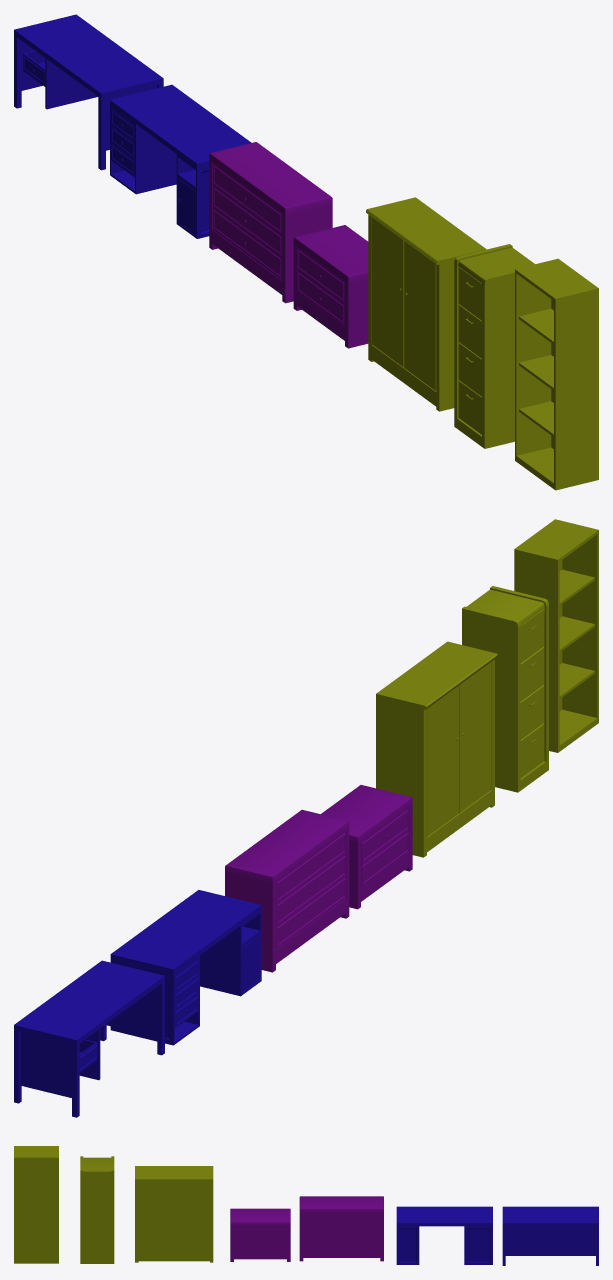
Rendered from Mobiliario.fbx.
3 renders of one model, top to bottom at view 1: azimuth 30°, elevation 25°; view 2: azimuth 150°, elevation 25°; view 3: azimuth 270°, elevation 25°, orthographic. The views are drawn at different scales.
Parts seen in each view (by area): view 1: Box008, Box007, BoxOffice, Desk01, Desk02, Box005, Box006, Drawer014, Drawer013, Drawer004, Drawer008, Drawer015; view 2: Box007, Box008, Desk02, BoxOffice, Desk01, Box005, Box006, Drawer013, Drawer014, Drawer004, Drawer008, Drawer015; view 3: Box007, Box008, Box005, Desk02, Desk01, BoxOffice, Box006.
Part boxes in pixels (left/top/right/bottom): Box008: left=515, top=258, right=598, bottom=490; Box007: left=366, top=197, right=486, bottom=411; BoxOffice: left=454, top=244, right=534, bottom=448; Desk01: left=110, top=84, right=251, bottom=238; Desk02: left=14, top=14, right=163, bottom=170; Box005: left=209, top=142, right=332, bottom=303; Box006: left=293, top=225, right=368, bottom=348; Drawer014: left=213, top=208, right=282, bottom=280; Drawer013: left=213, top=185, right=282, bottom=257; Drawer004: left=213, top=163, right=282, bottom=235; Drawer008: left=297, top=247, right=344, bottom=304; Drawer015: left=297, top=270, right=344, bottom=326; Box007: left=376, top=641, right=497, bottom=857; Box008: left=514, top=519, right=598, bottom=752; Desk02: left=14, top=960, right=164, bottom=1117; BoxOffice: left=462, top=586, right=548, bottom=792; Desk01: left=110, top=890, right=261, bottom=1045; Box005: left=225, top=809, right=349, bottom=972; Box006: left=321, top=785, right=412, bottom=909; Drawer013: left=276, top=853, right=345, bottom=926; Drawer014: left=276, top=876, right=345, bottom=949; Drawer004: left=276, top=831, right=345, bottom=904; Drawer008: left=361, top=807, right=409, bottom=864; Drawer015: left=361, top=830, right=409, bottom=887; Box007: left=135, top=1166, right=213, bottom=1262; Box008: left=14, top=1146, right=58, bottom=1263; Box005: left=299, top=1196, right=383, bottom=1261; Desk02: left=502, top=1206, right=598, bottom=1265; Desk01: left=396, top=1206, right=492, bottom=1264; BoxOffice: left=80, top=1156, right=114, bottom=1263; Box006: left=230, top=1208, right=290, bottom=1261.
Size of the model in its own units: 67.53 by 195 by 971.
